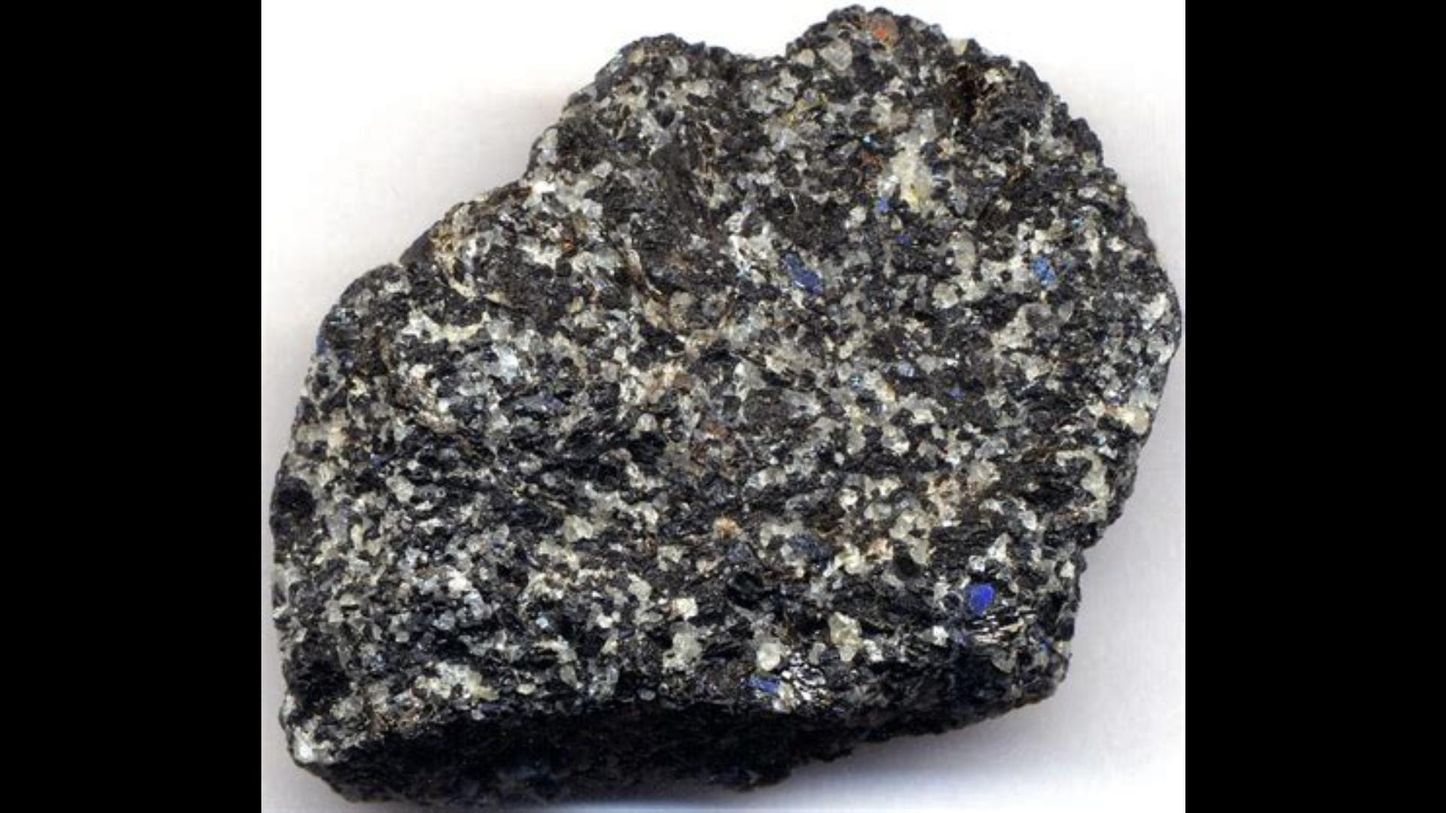rock: (270, 12, 1177, 799)
